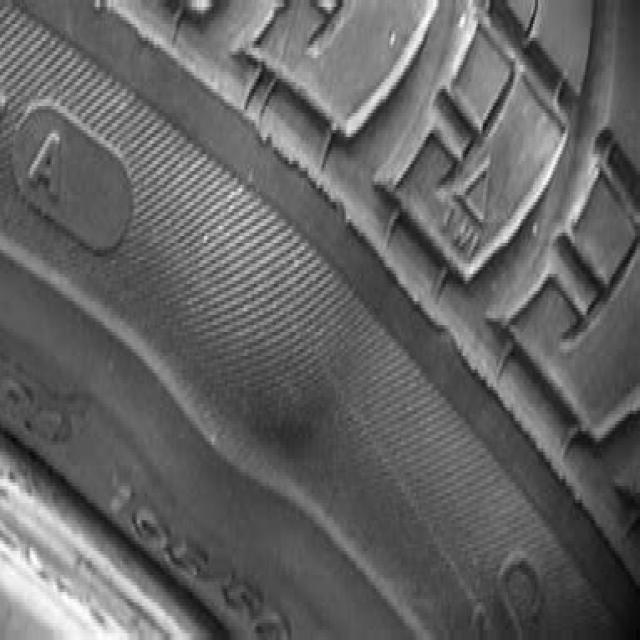Bulge: (154, 142, 372, 482)
